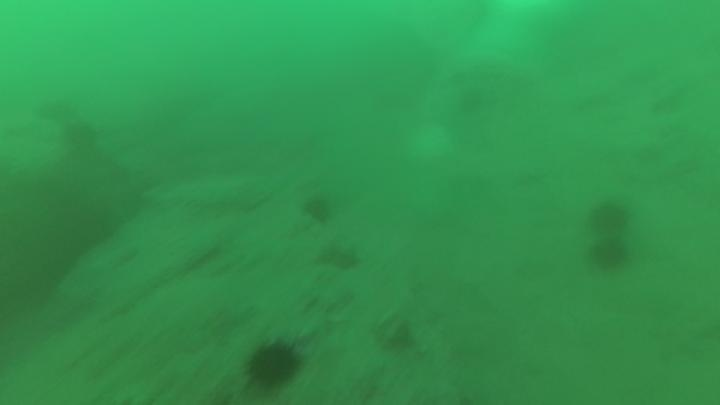echinus: (242, 336, 306, 392), (586, 198, 632, 235), (587, 235, 631, 273), (60, 118, 100, 155), (300, 192, 336, 226)
